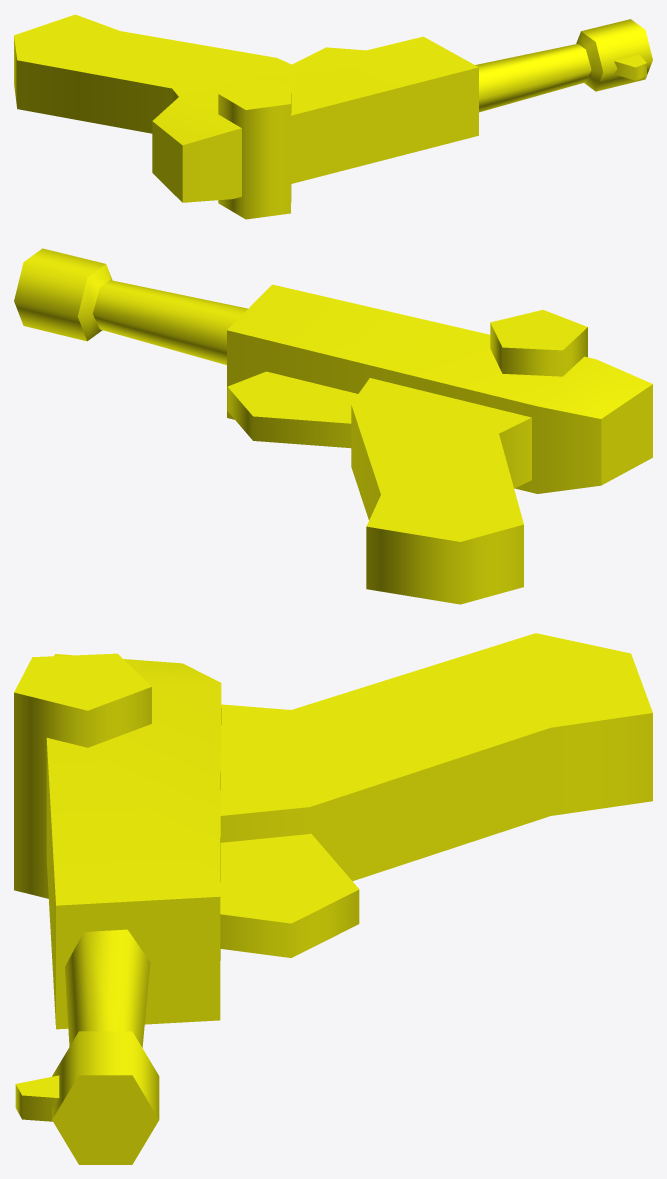
File: weapon_luger.glb
3 views of the same model, one above another, from view 1: azimuth 30°, elevation 25°; view 2: azimuth 150°, elevation 25°; view 3: azimuth 270°, elevation 25° (orthographic). The views are drawn at different scales.
Parts seen in each view (by area): view 1: weapon_luger; view 2: weapon_luger; view 3: weapon_luger.
Boxes of the visible parts, bbox=[...] form: weapon_luger: bbox=[14, 14, 652, 219]; weapon_luger: bbox=[14, 248, 652, 604]; weapon_luger: bbox=[14, 633, 652, 1164].
Size of the model in its own units: 0.5704 by 0.1188 by 0.3478.
Materials: 1 (1 with a texture image).
